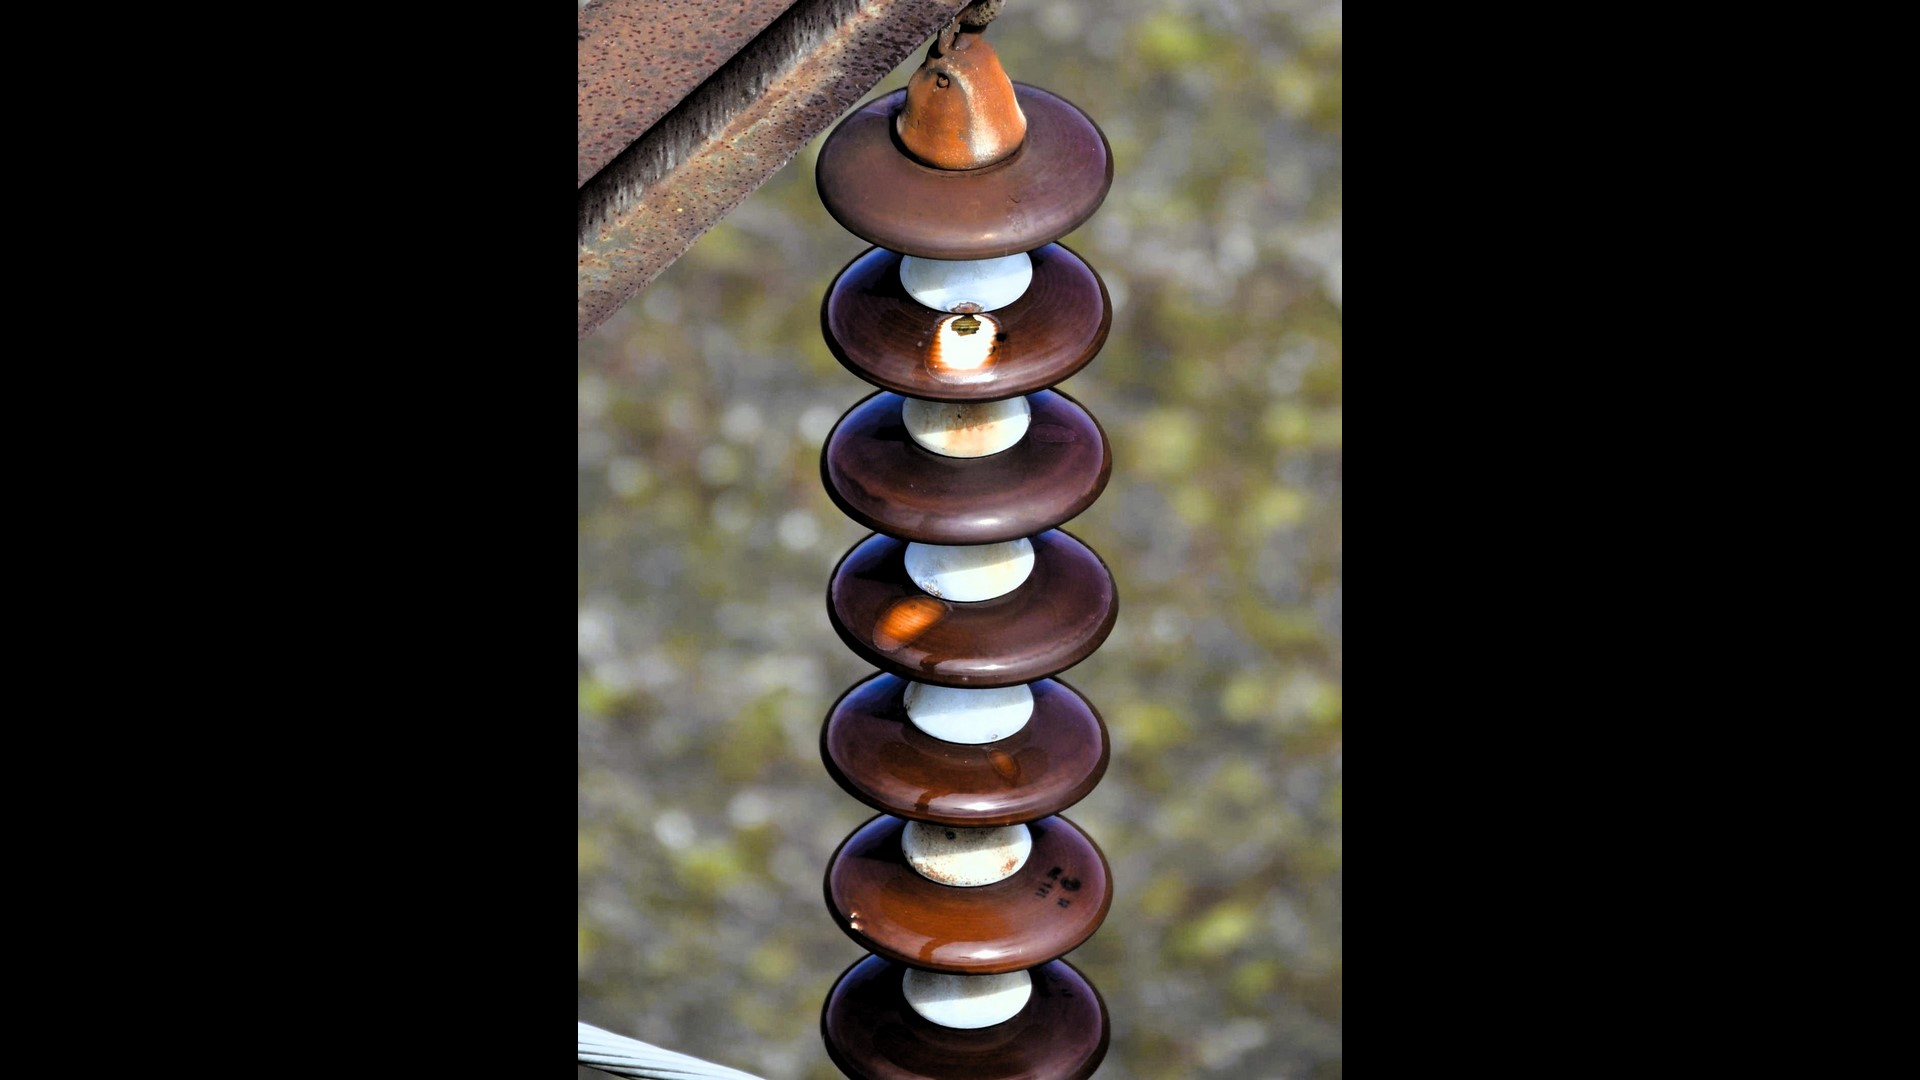Insulator flashover: (804, 233, 1129, 410), (822, 520, 1125, 696)
